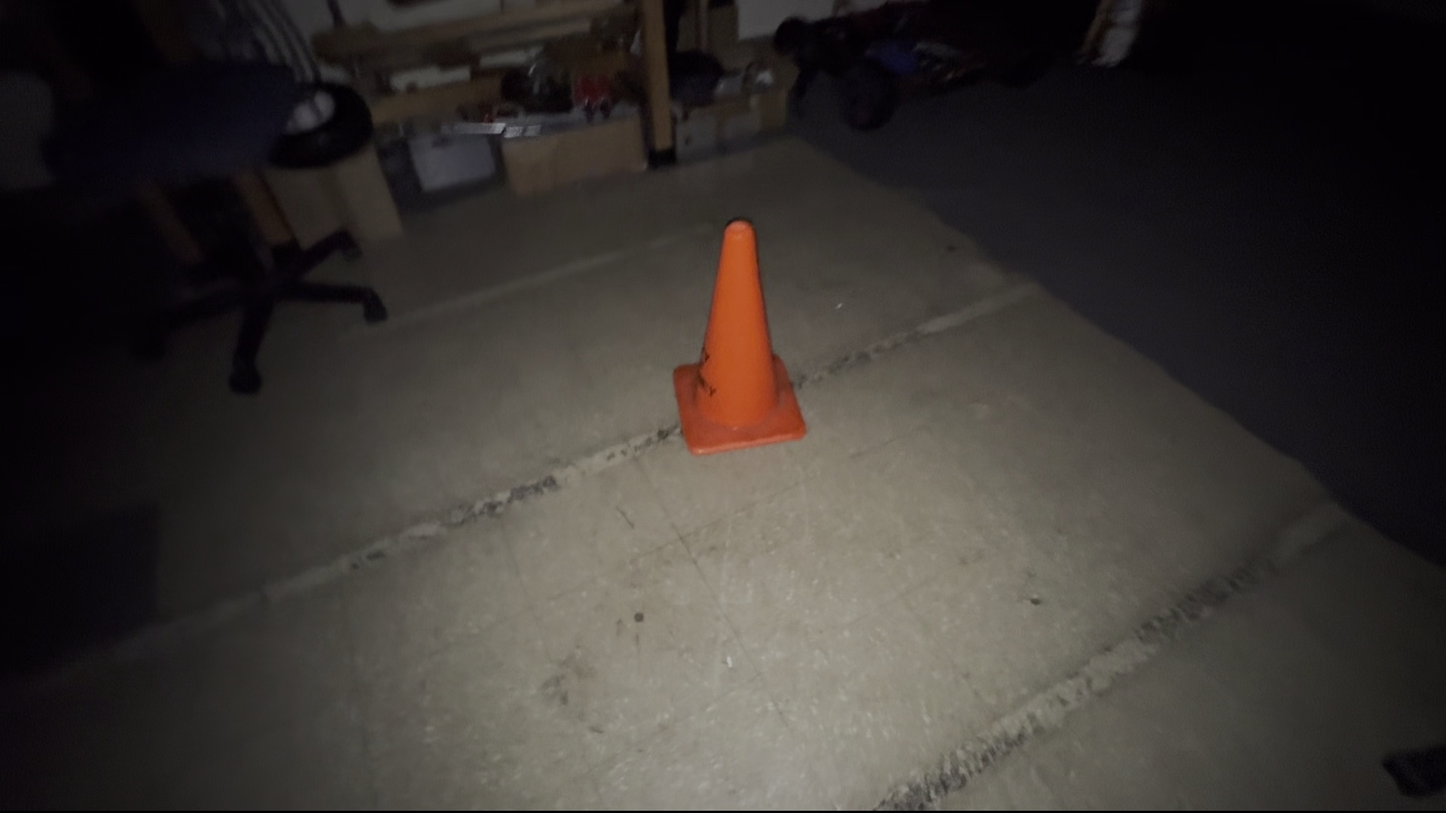traffic_cone: (672, 217, 808, 456)
